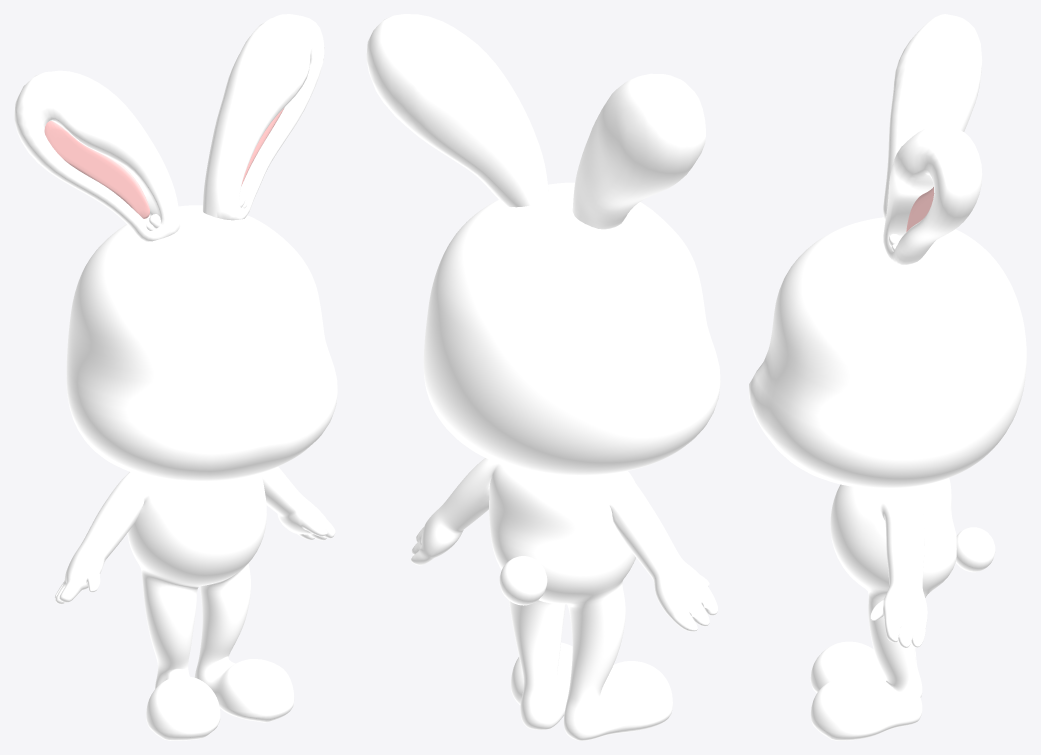
The model's file is cheek_avatarglb0726.gltf.
3 renders of one model, left to right at view 1: azimuth 30°, elevation 25°; view 2: azimuth 150°, elevation 25°; view 3: azimuth 270°, elevation 25°, orthographic. The views are drawn at different scales.
Visible parts, largest first — view 1: POSED_BODY_FIN2; view 2: POSED_BODY_FIN2; view 3: POSED_BODY_FIN2.
Boxes of the visible parts, x1,y1,x2,y2 form: POSED_BODY_FIN2: [14, 14, 337, 740]; POSED_BODY_FIN2: [366, 14, 720, 740]; POSED_BODY_FIN2: [749, 14, 1026, 740].
Bounding box in the file's own units: 0.0817 × 0.1624 × 0.0643.
